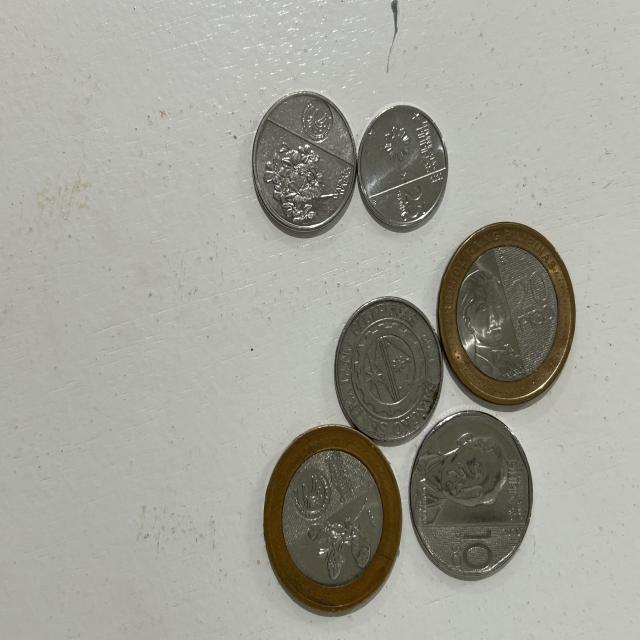10_New_Front: (463, 524, 498, 568)
1_New_Back: (257, 140, 341, 230)
1_Old_Back: (338, 298, 442, 446)
20_New_Back: (306, 502, 376, 584)
20_New_Front: (510, 262, 557, 336)
25Cent_New_Front: (394, 176, 430, 224)
